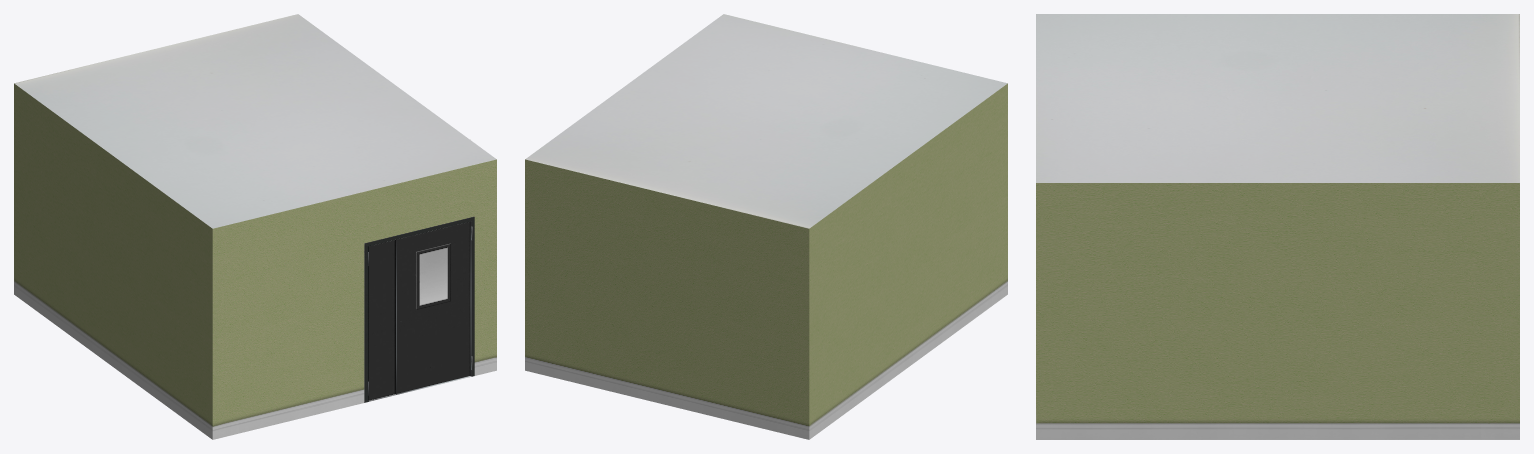
File: valter-lab.dae
3 renders of one model, left to right at view 1: azimuth 30°, elevation 25°; view 2: azimuth 150°, elevation 25°; view 3: azimuth 270°, elevation 25°, orthographic. The views are drawn at different scales.
Visible parts, largest first — view 1: ceiling, rearWall, leftWall, rearWallDoorBigPart, rearWallDoorSmallPart; view 2: frontWall, ceiling, leftWall; view 3: rightWall, ceiling.
Part boxes in pixels (x1,y1,x2,y2): ceiling: [14, 14, 496, 228]; rearWall: [212, 159, 496, 439]; leftWall: [14, 83, 212, 439]; rearWallDoorBigPart: [397, 221, 471, 394]; rearWallDoorSmallPart: [368, 239, 396, 401]; frontWall: [525, 159, 809, 439]; ceiling: [525, 14, 1007, 228]; leftWall: [809, 83, 1007, 439]; rightWall: [1036, 183, 1519, 439]; ceiling: [1036, 14, 1519, 182].
Size of the model in its own units: 56.57 by 68.51 by 40.17.
Materials: 13 (9 with a texture image).
